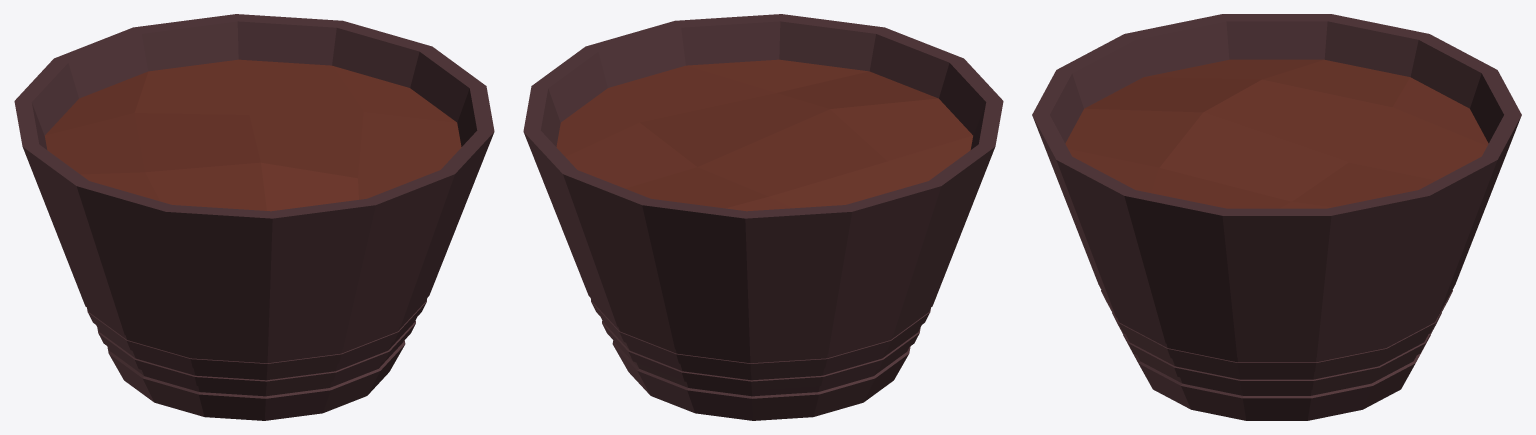
Rendered from Vaso.fbx.
The picture shows the model from 3 angles, left to right: view 1: azimuth 30°, elevation 25°; view 2: azimuth 150°, elevation 25°; view 3: azimuth 270°, elevation 25°; orthographic projection.
Parts seen in each view (by area): view 1: Circle, Circle.001; view 2: Circle, Circle.001; view 3: Circle, Circle.001.
Part boxes in pixels (left/top/right/bottom): Circle: left=14, top=14, right=494, bottom=420; Circle.001: left=45, top=59, right=461, bottom=211; Circle: left=523, top=14, right=1003, bottom=420; Circle.001: left=556, top=59, right=972, bottom=211; Circle: left=1032, top=14, right=1521, bottom=420; Circle.001: left=1065, top=59, right=1488, bottom=208.
Bounding box in the file's own units: 277 × 160 × 285.
